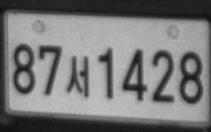1: (95, 46, 120, 98)
2: (151, 48, 175, 103)
4: (121, 48, 147, 102)
7: (38, 44, 62, 95)
8: (179, 50, 204, 104), (12, 42, 35, 94)
서: (66, 55, 89, 98)
